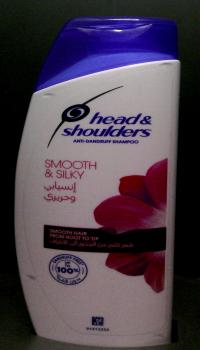dent_unacceptable: (30, 84, 65, 106), (19, 266, 46, 289), (142, 329, 171, 345), (153, 59, 179, 73)
